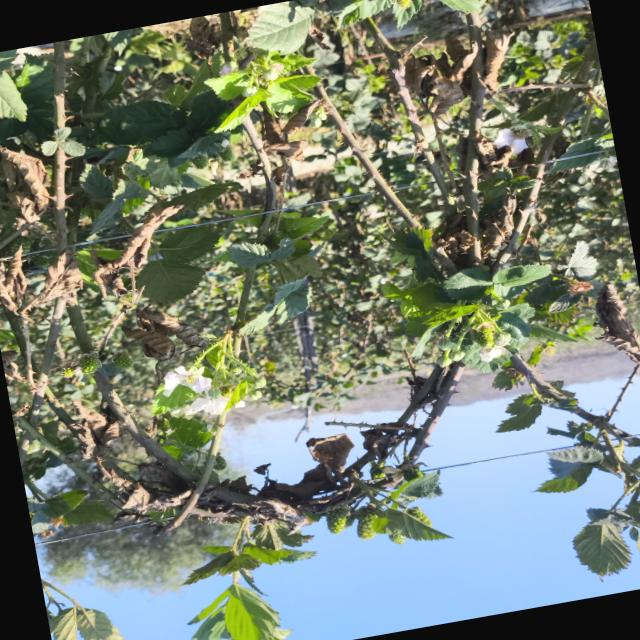boton: (493, 331, 511, 346), (436, 352, 451, 367), (450, 349, 464, 361)
flor: (164, 365, 211, 396), (185, 395, 228, 415)
